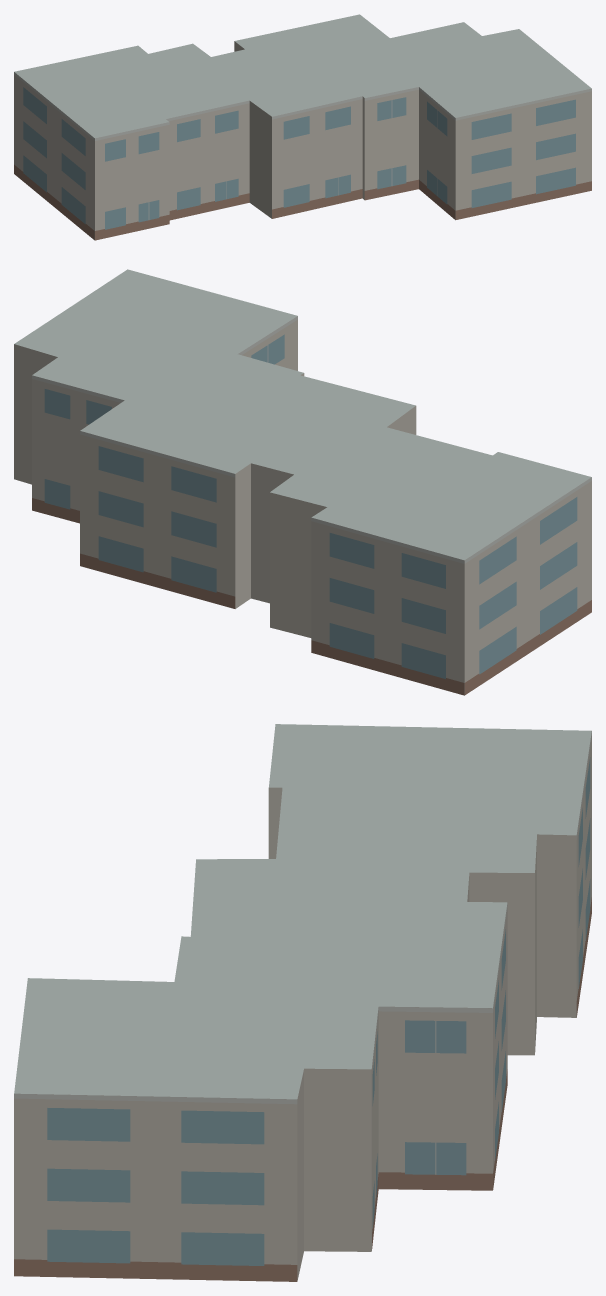
Rendered from survey-upis-32886327.glb.
3 renders of one model, top to bottom at view 1: azimuth 30°, elevation 25°; view 2: azimuth 150°, elevation 25°; view 3: azimuth 270°, elevation 25°, orthographic. The views are drawn at different scales.
Parts seen in each view (by area): view 1: survey-upis-32886327.tmp; view 2: survey-upis-32886327.tmp; view 3: survey-upis-32886327.tmp.
Part boxes in pixels (x1,y1,x2,y2): survey-upis-32886327.tmp: (14, 14, 591, 240); survey-upis-32886327.tmp: (14, 269, 591, 695); survey-upis-32886327.tmp: (14, 724, 591, 1281).
Size of the model in its own units: 40.35 by 9.15 by 26.26.
